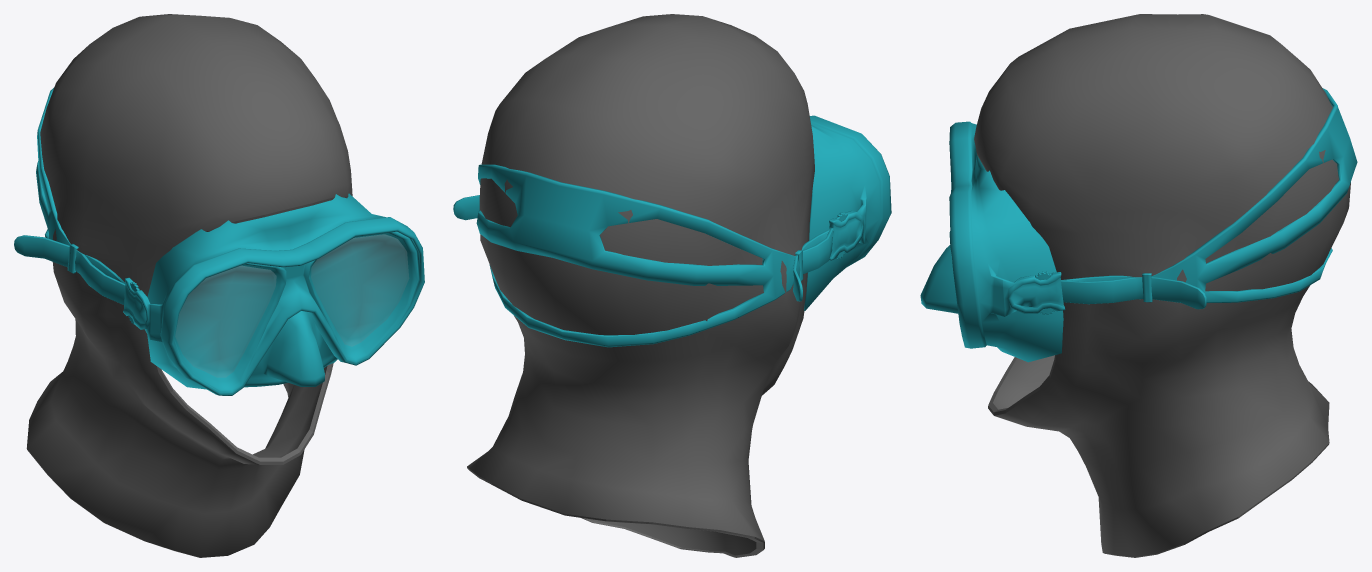
Rendered from mask.dae.
3 views of the same model, side by side, from view 1: azimuth 30°, elevation 25°; view 2: azimuth 150°, elevation 25°; view 3: azimuth 270°, elevation 25° (orthographic). The views are drawn at different scales.
Parts seen in each view (by area): view 1: wsc_headgear, wsc_mask; view 2: wsc_headgear, wsc_mask; view 3: wsc_headgear, wsc_mask.
Boxes of the visible parts, left/top/right/bottom form: wsc_headgear: left=26, top=14, right=352, bottom=557; wsc_mask: left=14, top=87, right=424, bottom=395; wsc_headgear: left=467, top=14, right=814, bottom=557; wsc_mask: left=453, top=115, right=891, bottom=347; wsc_headgear: left=974, top=14, right=1350, bottom=557; wsc_mask: left=920, top=88, right=1357, bottom=362.
Bounding box in the file's own units: 0.2113 × 0.2368 × 0.3087.
